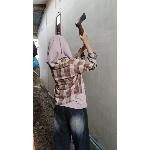Kapak: (74, 11, 94, 45)
